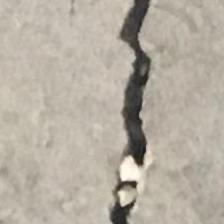Crack: (94, 0, 181, 224)
